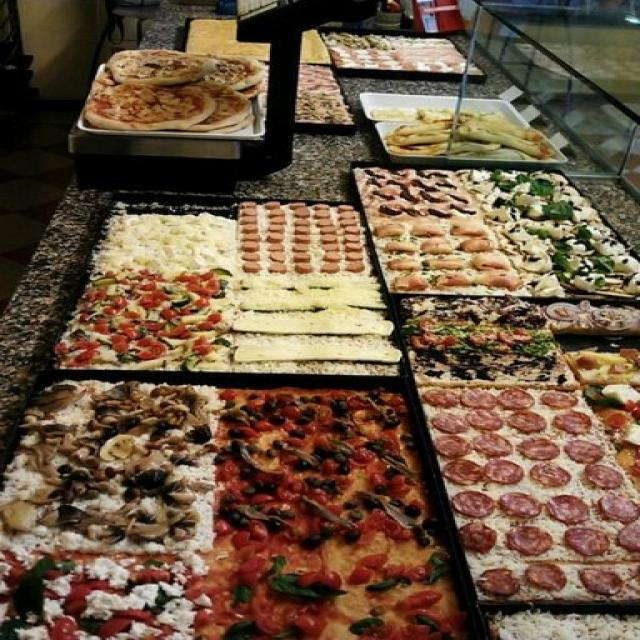Basil: (0, 553, 73, 638), (263, 557, 347, 601), (15, 555, 54, 613), (359, 578, 408, 592), (152, 591, 180, 615), (345, 617, 386, 632), (411, 613, 440, 634), (224, 621, 254, 640), (233, 584, 256, 606), (430, 554, 445, 584), (77, 615, 99, 633), (145, 559, 166, 570), (142, 62, 160, 68)
Cheese: (117, 219, 224, 260), (83, 584, 157, 618), (159, 601, 194, 640), (199, 464, 214, 546), (4, 539, 44, 565), (91, 558, 129, 584), (175, 550, 213, 576), (0, 540, 12, 619), (3, 471, 37, 498), (602, 383, 640, 405), (42, 598, 70, 623), (57, 535, 97, 552), (117, 544, 167, 557), (113, 622, 158, 636), (166, 562, 184, 596), (12, 627, 54, 640), (50, 575, 73, 595), (93, 496, 125, 508), (62, 408, 88, 421), (623, 426, 640, 445), (192, 594, 212, 609), (339, 53, 390, 58), (345, 64, 399, 68), (334, 50, 386, 54), (342, 59, 394, 63)
Mushrooms: (132, 474, 198, 506), (57, 470, 101, 500), (40, 511, 100, 531), (185, 426, 220, 456), (104, 433, 140, 462), (0, 502, 36, 530), (34, 441, 56, 482), (38, 387, 72, 411), (127, 523, 171, 540), (88, 525, 124, 545), (96, 399, 128, 421), (170, 511, 194, 537), (161, 395, 181, 423), (79, 439, 96, 468), (180, 455, 195, 465)
Olives: (394, 500, 426, 519), (243, 480, 274, 496), (218, 507, 244, 526), (413, 526, 434, 548), (332, 452, 353, 474), (344, 499, 363, 520), (302, 535, 325, 552), (365, 440, 388, 457), (269, 441, 287, 458), (401, 434, 418, 451), (270, 508, 296, 518), (249, 408, 264, 422), (265, 519, 281, 530), (348, 531, 364, 542), (288, 431, 306, 440), (239, 468, 258, 476), (376, 484, 386, 498), (212, 457, 226, 465), (229, 428, 240, 438), (306, 406, 317, 416), (250, 446, 261, 456), (361, 429, 374, 437), (299, 418, 313, 425), (272, 417, 285, 424), (393, 416, 401, 425)
Onions: (548, 304, 636, 329)
Pepperoni: (527, 564, 572, 593), (547, 496, 592, 522), (456, 492, 496, 520), (445, 460, 488, 486), (530, 462, 574, 486), (581, 569, 625, 593), (502, 492, 542, 518), (582, 465, 626, 488), (569, 530, 609, 554), (552, 411, 590, 436), (509, 528, 552, 550), (480, 570, 516, 594), (488, 460, 523, 484), (517, 436, 553, 459), (465, 526, 499, 550), (564, 441, 602, 462), (509, 409, 543, 432), (438, 435, 475, 456), (476, 431, 507, 455), (606, 493, 634, 519), (471, 408, 503, 429), (427, 388, 460, 408), (434, 412, 466, 432), (459, 388, 496, 405), (544, 390, 578, 408), (504, 387, 532, 408), (623, 520, 640, 549)
Pizza: (0, 381, 463, 640), (400, 298, 640, 599), (57, 201, 397, 374), (82, 50, 268, 131), (327, 34, 463, 75), (297, 36, 350, 129)
Tomato: (357, 512, 391, 542), (400, 593, 438, 618), (254, 600, 284, 630), (352, 553, 380, 584), (302, 572, 345, 590), (238, 524, 268, 546), (471, 331, 531, 342), (228, 463, 244, 500), (154, 322, 190, 338), (389, 563, 426, 578), (317, 496, 342, 518), (281, 483, 313, 500), (297, 615, 327, 633), (140, 338, 168, 356), (416, 335, 451, 349), (75, 342, 98, 362), (245, 558, 262, 584), (141, 291, 168, 307), (392, 526, 414, 542), (116, 321, 135, 339), (188, 282, 216, 294), (370, 460, 383, 484), (199, 316, 225, 328), (394, 478, 410, 496), (194, 336, 210, 354), (112, 334, 129, 350), (336, 475, 355, 489), (175, 274, 214, 280), (141, 270, 161, 281), (217, 520, 231, 535), (242, 428, 264, 437), (256, 423, 278, 432), (252, 496, 276, 504), (95, 320, 108, 334), (352, 402, 370, 412), (625, 405, 640, 416), (410, 501, 428, 510), (333, 390, 349, 400), (282, 408, 301, 416), (418, 320, 432, 330), (286, 438, 303, 446), (161, 310, 176, 319), (222, 391, 241, 398), (160, 310, 173, 320), (55, 344, 68, 354), (326, 462, 340, 470), (196, 300, 210, 308), (79, 314, 91, 322), (144, 283, 154, 290), (104, 272, 116, 277)
